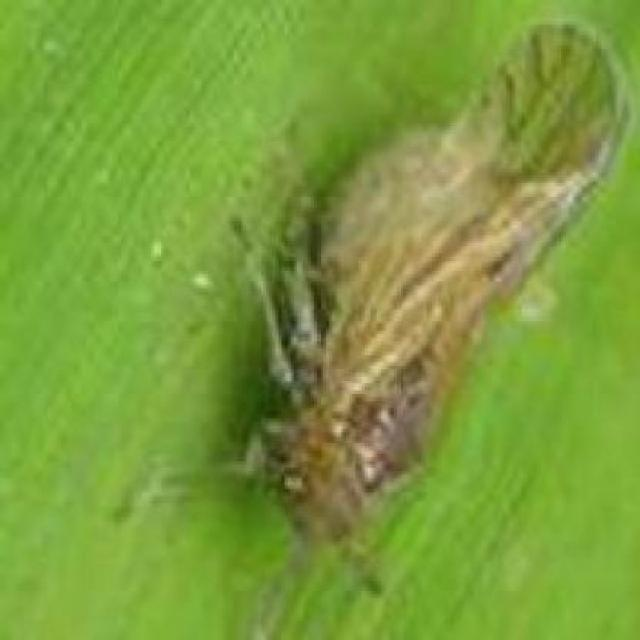brown-planthopper: (237, 16, 637, 550)
